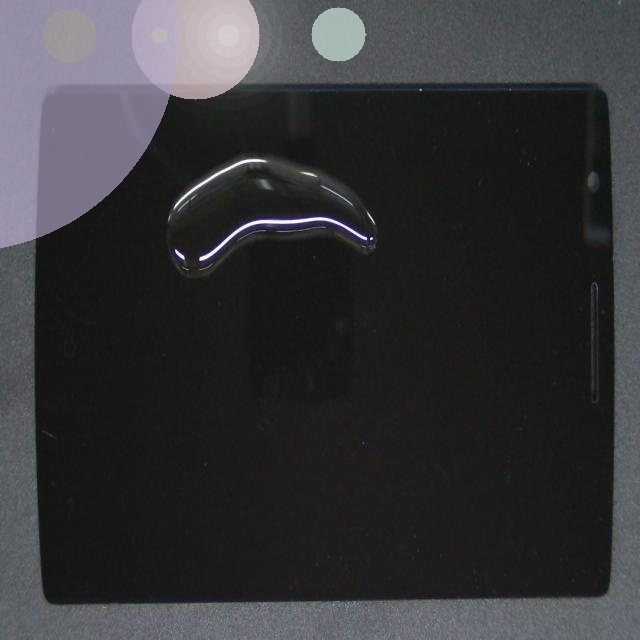oil: (123, 109, 503, 350)
